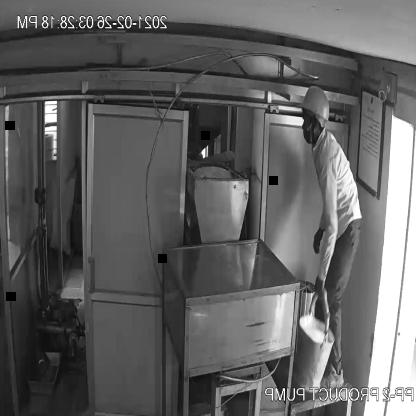helmet: (298, 85, 334, 121)
